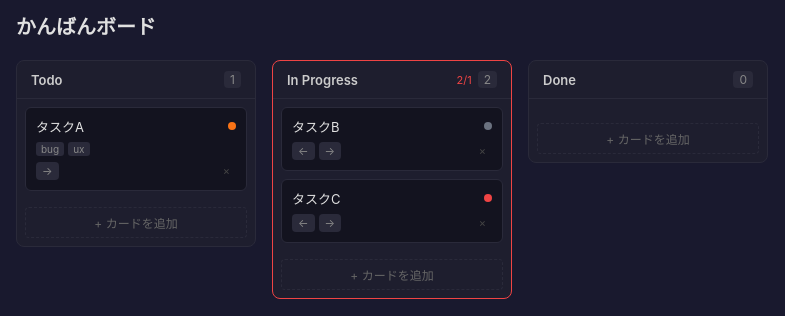
Scenario: KanbanScreen › + カードを追加 ボタンでインライン入力を表示
Click the button "+ カードを追加" below "bug".
click(136, 223)  # box x1=25 y1=207 x2=247 y2=238
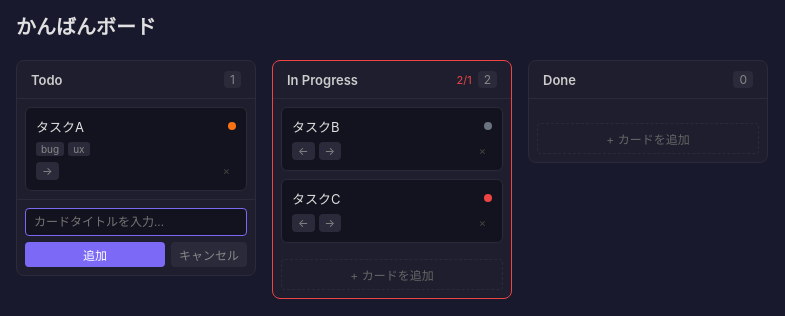
Expected: the button "追加" is shown, x1=25 y1=242 x2=165 y2=267
Expected: the field with placeholder "カードタイトルを入力..." is shown, x1=25 y1=208 x2=247 y2=236
Expected: the button "キャンセル" is shown, x1=171 y1=242 x2=247 y2=267
